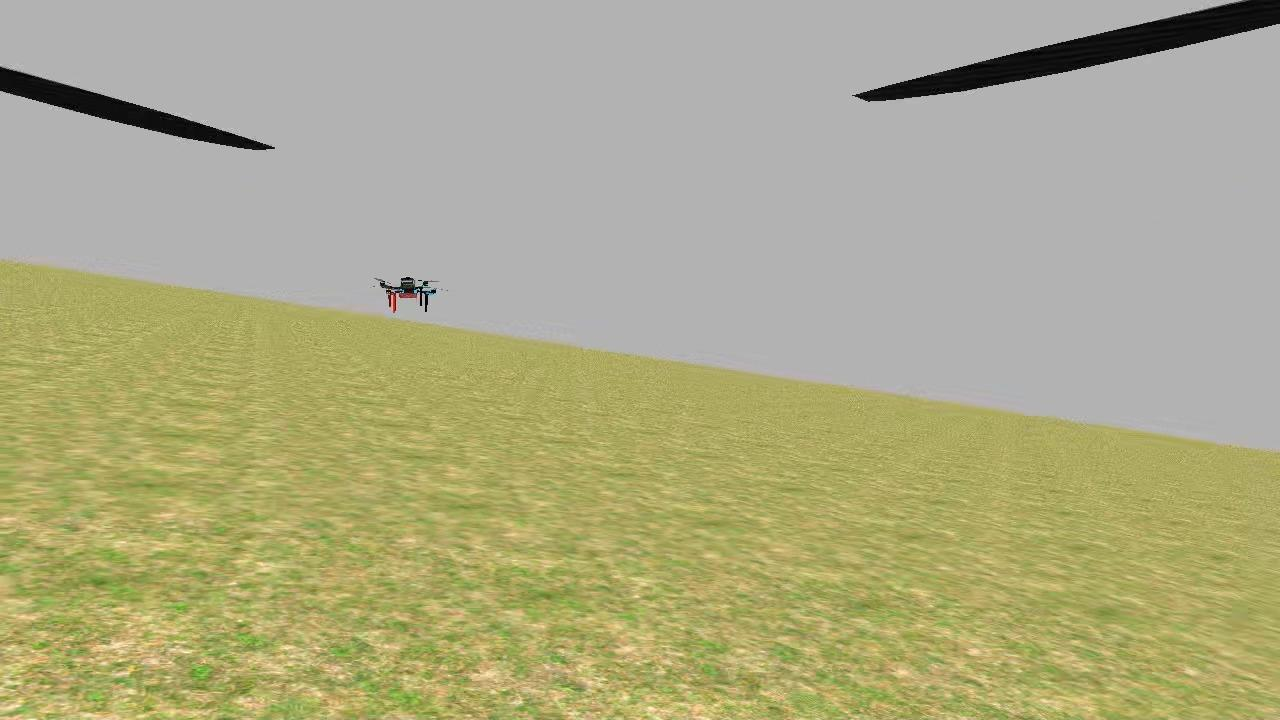UAV: (364, 268, 448, 320)
